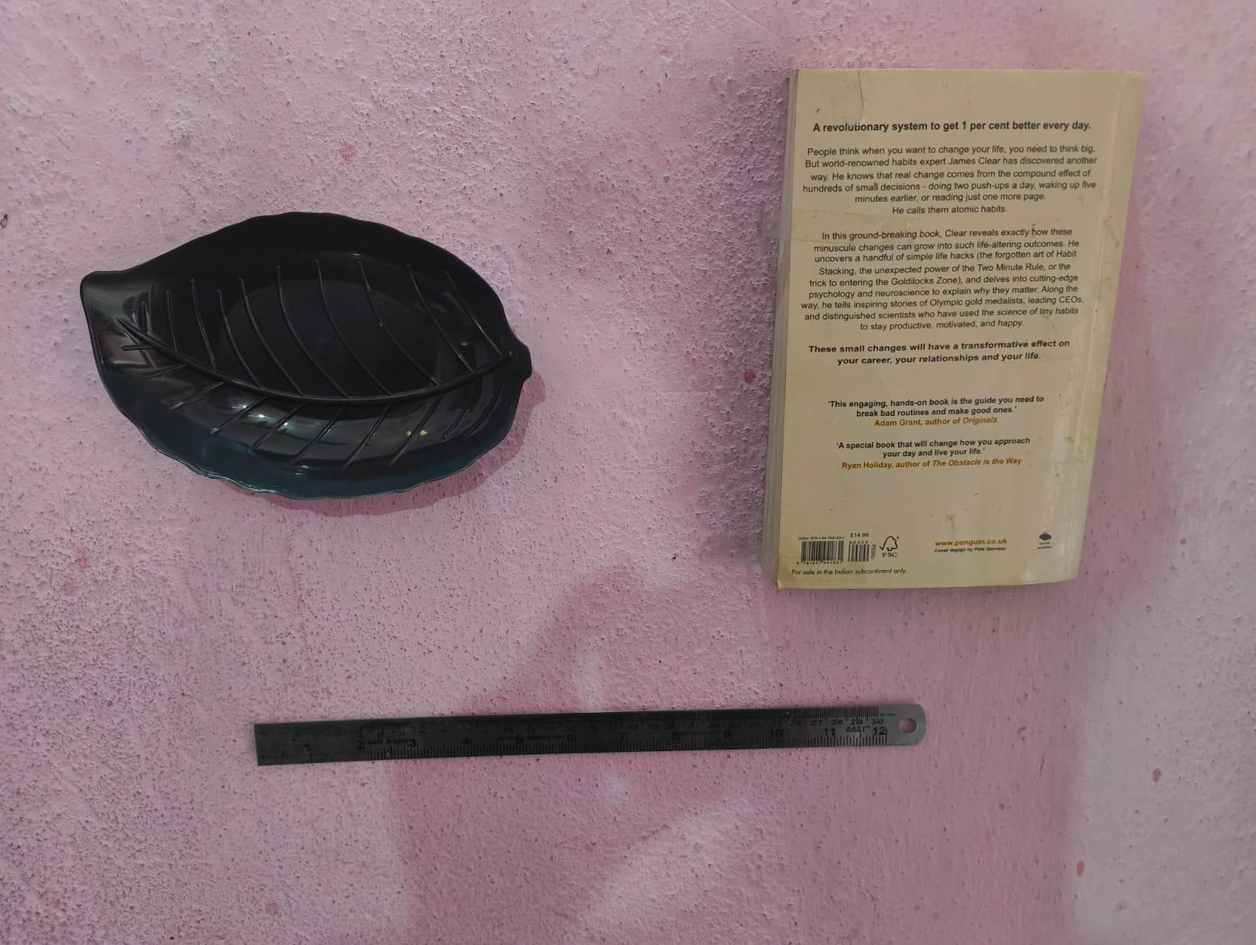plate: (780, 57, 1151, 597), (85, 214, 546, 505)
scale: (250, 694, 934, 779)
